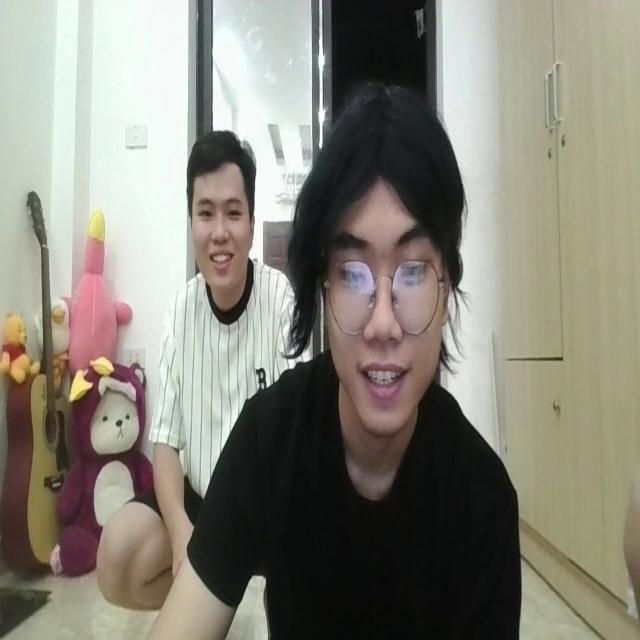extra_person: (154, 133, 302, 385)
student: (168, 82, 520, 640)
